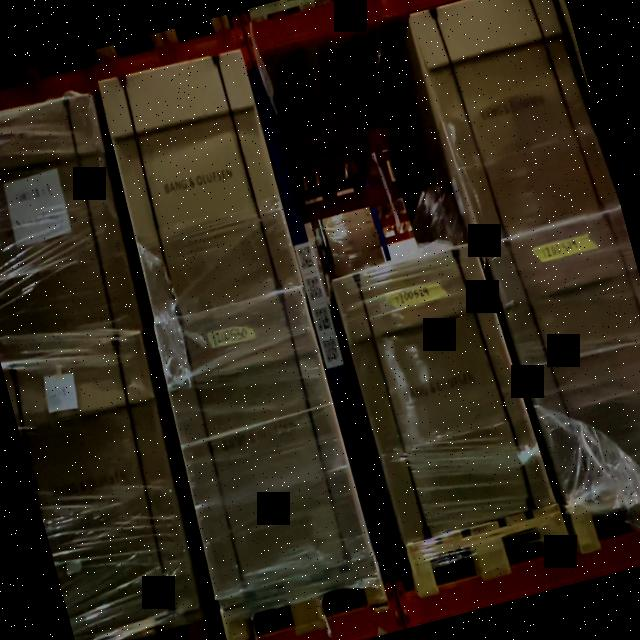box: (156, 290, 373, 600), (331, 245, 554, 545), (99, 53, 303, 324), (410, 0, 618, 241)
